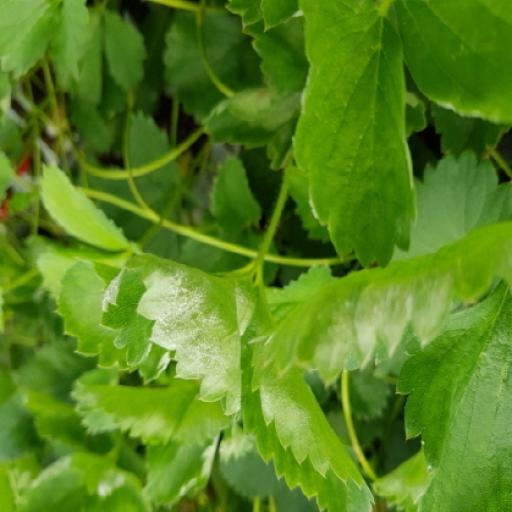Powdery Mildew Leaf: (0, 125, 265, 290), (253, 95, 414, 259), (136, 0, 271, 170), (359, 0, 499, 61), (289, 4, 370, 81)
